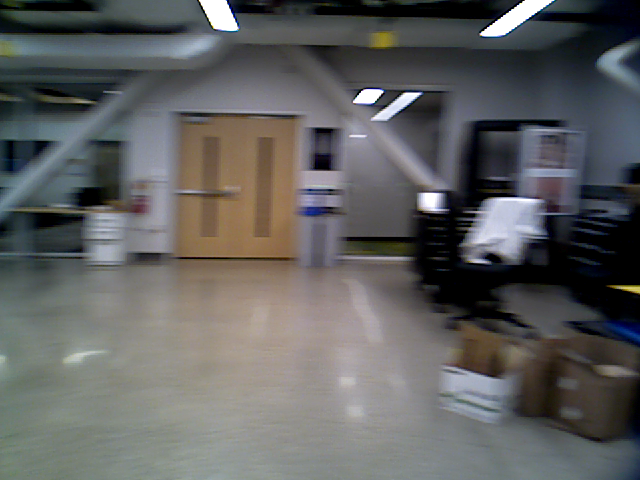painting1: (300, 127, 344, 174)
